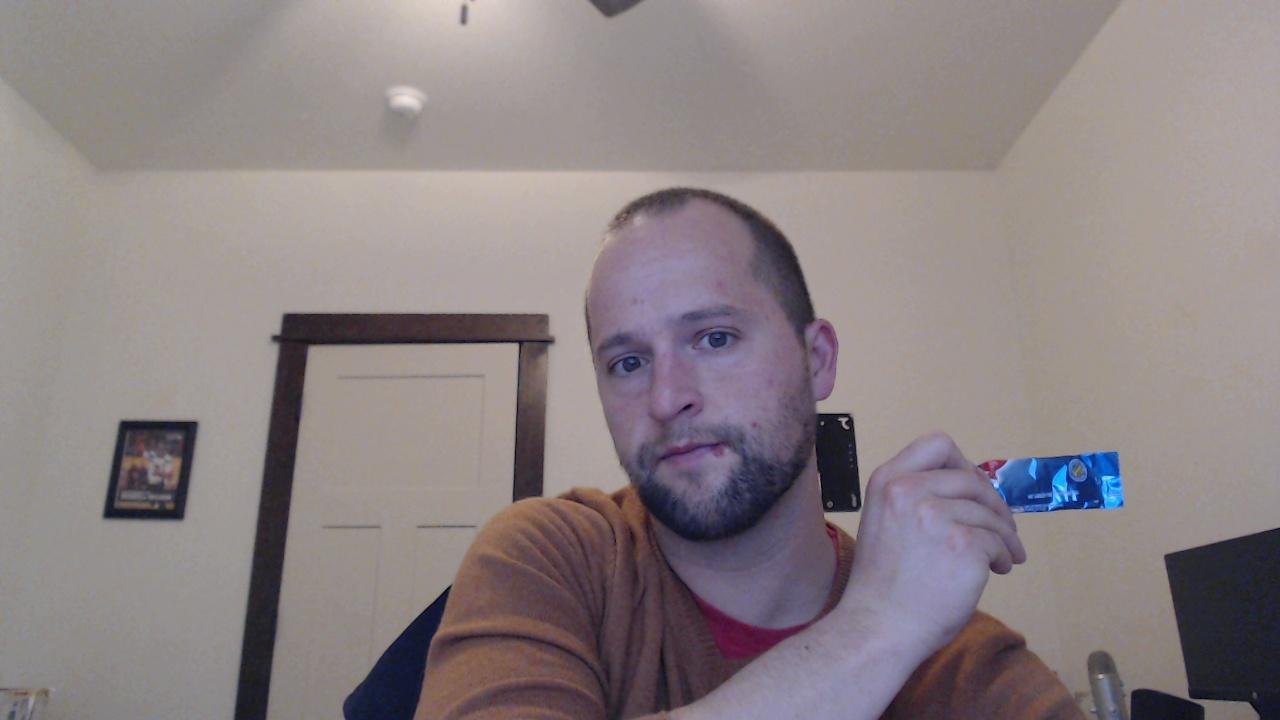airheads: (959, 448, 1130, 518)
